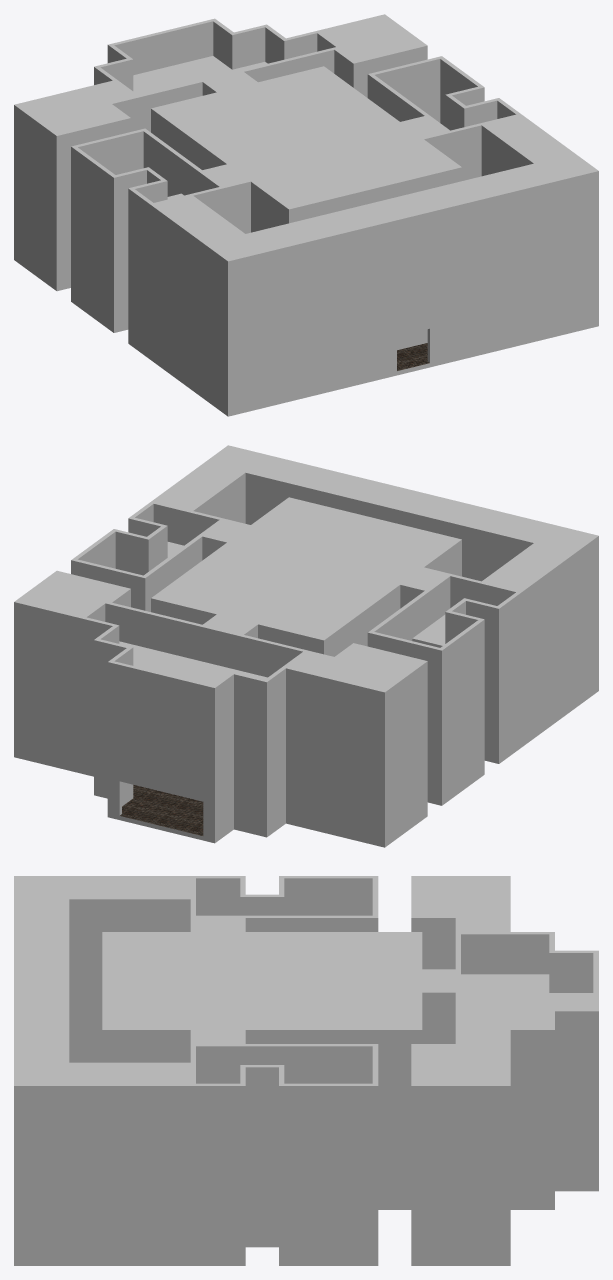
Rendered from FACTORY_1.fbx.
The picture shows the model from 3 angles, top to bottom: view 1: azimuth 30°, elevation 25°; view 2: azimuth 150°, elevation 25°; view 3: azimuth 270°, elevation 25°; orthographic projection. The views are drawn at different scales.
Parts seen in each view (by area): view 1: FLOOR_4, FLOOR_3, FLOOR_2, FLOOR_1; view 2: FLOOR_4, FLOOR_3, FLOOR_1, FLOOR_2; view 3: FLOOR_4, FLOOR_3, FLOOR_2, FLOOR_1.
Part boxes in pixels (<box>): FLOOR_4: <box>14,14,598,300</box>; FLOOR_3: <box>14,97,598,338</box>; FLOOR_2: <box>14,182,598,377</box>; FLOOR_1: <box>14,221,598,416</box>; FLOOR_4: <box>14,445,598,731</box>; FLOOR_3: <box>14,511,598,769</box>; FLOOR_1: <box>14,652,598,847</box>; FLOOR_2: <box>14,613,598,808</box>; FLOOR_4: <box>14,876,598,1130</box>; FLOOR_3: <box>14,944,598,1175</box>; FLOOR_2: <box>14,989,598,1220</box>; FLOOR_1: <box>14,1034,598,1265</box>.
Bounding box in the file's own units: 4500 × 1800 × 5300.
